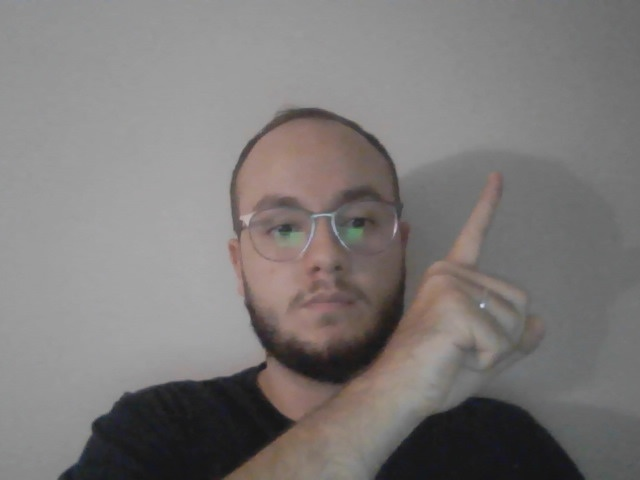One: (394, 171, 547, 414)
